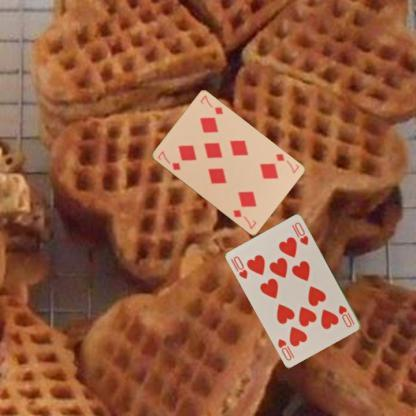10h: (336, 303, 356, 329), (231, 254, 249, 281)
7d: (273, 150, 300, 176), (154, 148, 182, 172)
